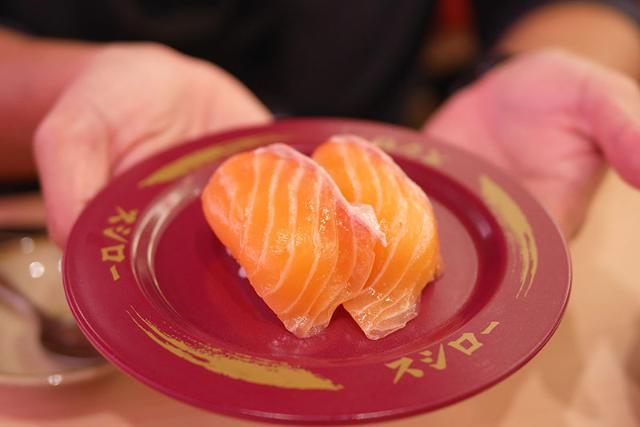janred: (110, 144, 557, 370)
